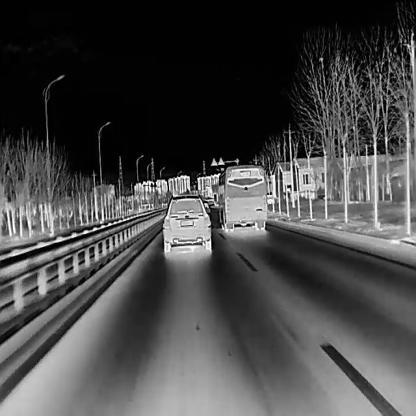car: (213, 163, 267, 232), (161, 192, 211, 252)
